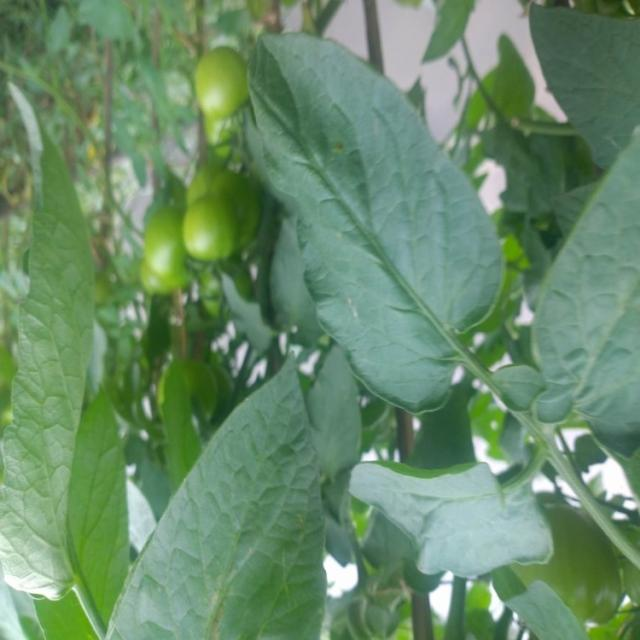tomato: (503, 481, 640, 637), (173, 164, 265, 275), (182, 39, 270, 141), (141, 203, 207, 305)
